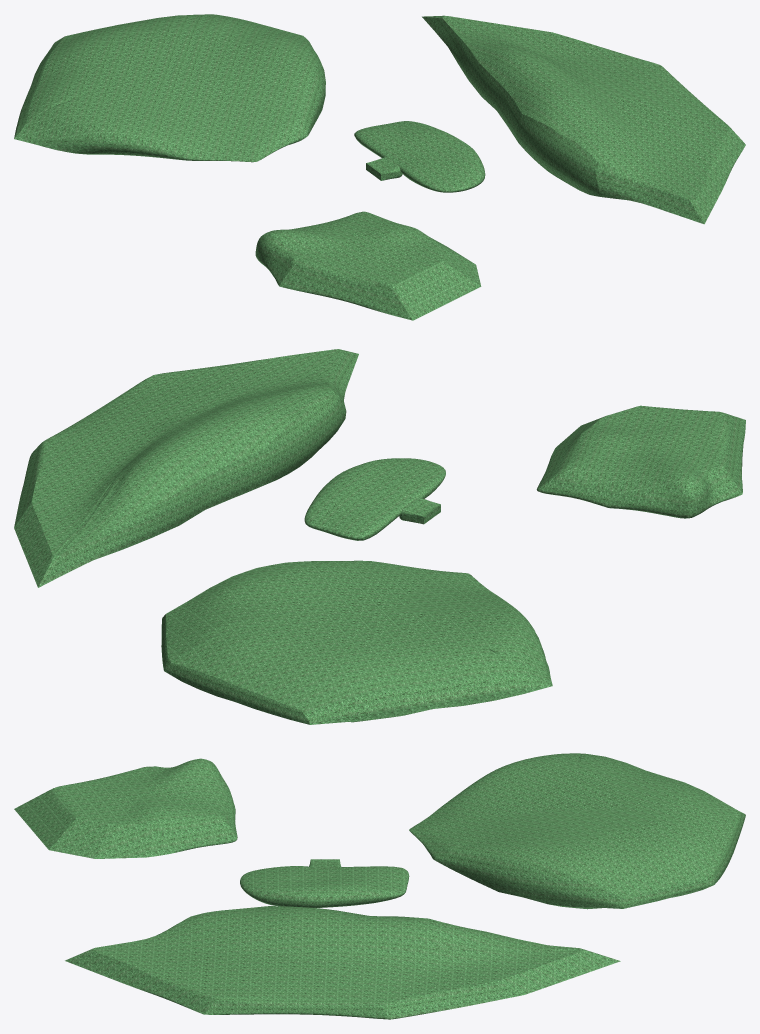
File: grassgeo.obj
3 views of the same model, one above another, from view 1: azimuth 30°, elevation 25°; view 2: azimuth 150°, elevation 25°; view 3: azimuth 270°, elevation 25° (orthographic). The views are drawn at different scales.
Parts seen in each view (by area): view 1: grassgeo_entity14_brush0.001; view 2: grassgeo_entity14_brush0.001; view 3: grassgeo_entity14_brush0.001.
Boxes of the visible parts, left/top/right/bottom form: grassgeo_entity14_brush0.001: left=14, top=14, right=745, bottom=320; grassgeo_entity14_brush0.001: left=14, top=349, right=745, bottom=724; grassgeo_entity14_brush0.001: left=14, top=753, right=745, bottom=1019.
Bounding box in the file's own units: 85.7 × 9.46 × 99.63.
